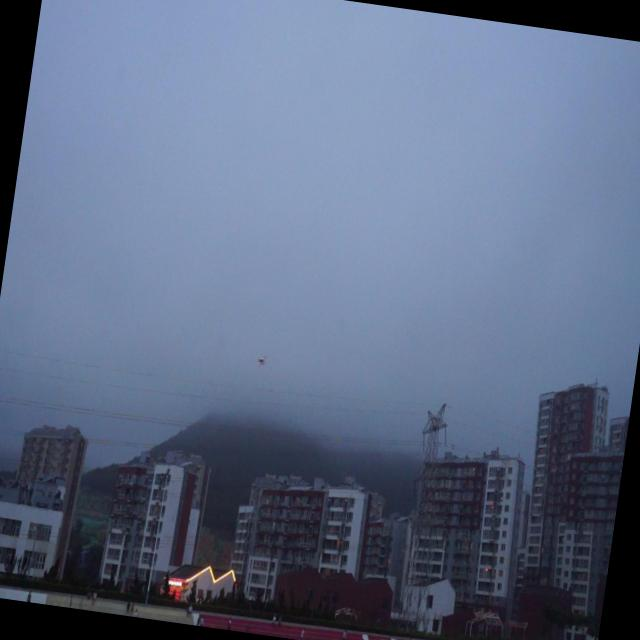drone: (256, 354, 269, 371)
